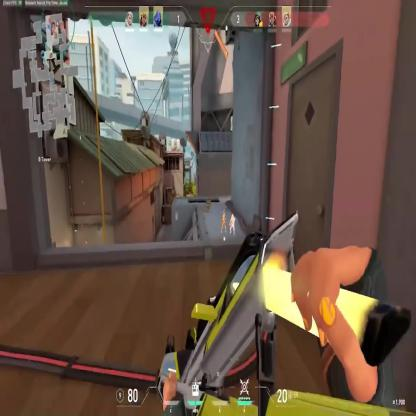enemy: (230, 214, 235, 234), (221, 213, 226, 232)
enemy_head: (231, 214, 234, 219), (223, 213, 225, 217)
